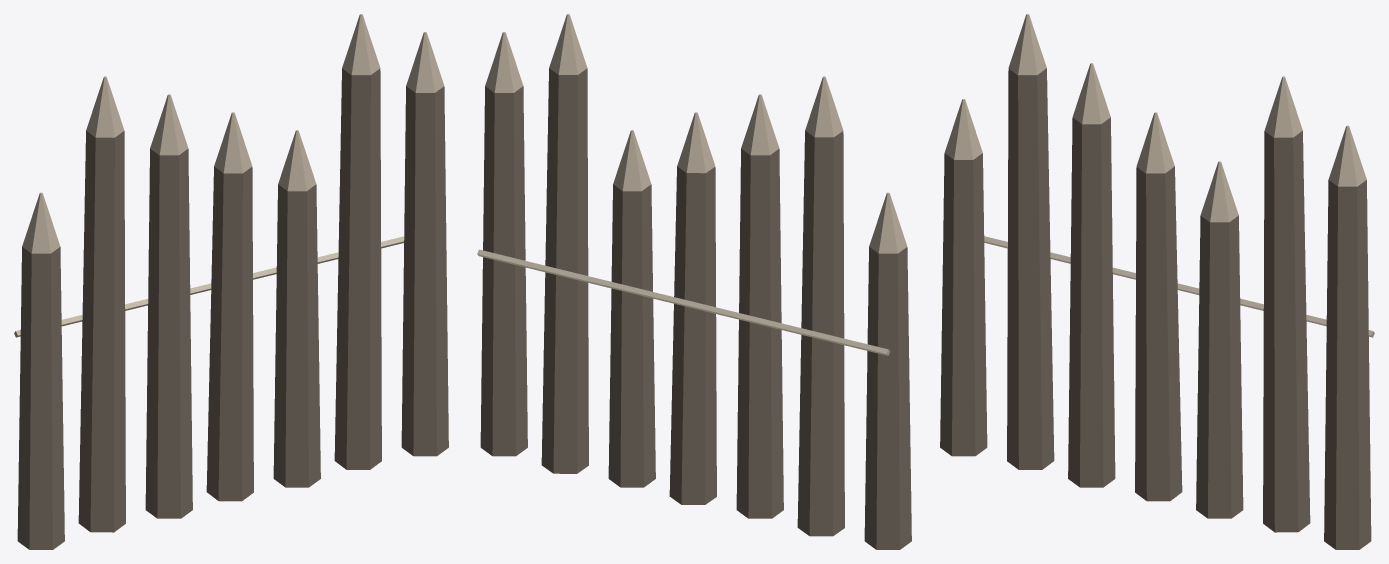
File: palisade.gltf
3 renders of one model, left to right at view 1: azimuth 30°, elevation 25°; view 2: azimuth 150°, elevation 25°; view 3: azimuth 330°, elevation 25°, orthographic.
Parts seen in each view (by area): view 1: Body; view 2: Body; view 3: Body.
Part boxes in pixels (left/top/right/bottom): Body: left=14, top=14, right=448, bottom=549; Body: left=477, top=14, right=911, bottom=549; Body: left=940, top=14, right=1374, bottom=549.
Bounding box in the file's own units: 3.28 × 3.35 × 0.36.
